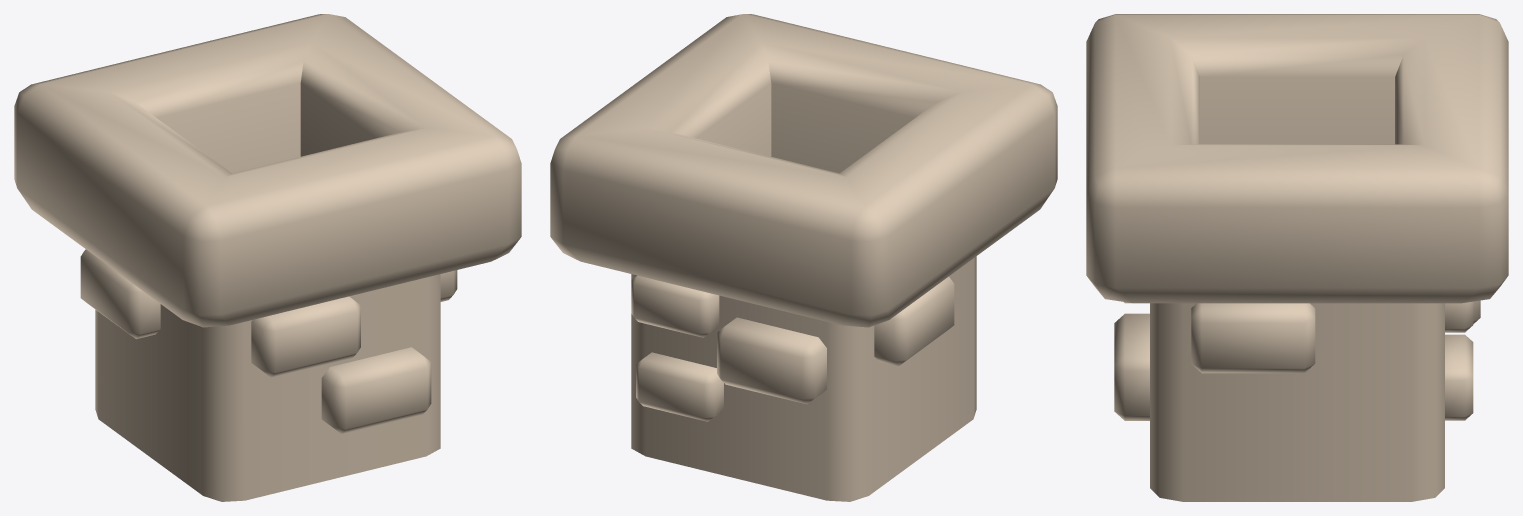
File: house_chimney.glb
3 renders of one model, left to right at view 1: azimuth 30°, elevation 25°; view 2: azimuth 150°, elevation 25°; view 3: azimuth 270°, elevation 25°, orthographic. The views are drawn at different scales.
Parts seen in each view (by area): view 1: house_chimney; view 2: house_chimney; view 3: house_chimney.
Part boxes in pixels (x1,y1,x2,y2): house_chimney: (14, 14, 521, 501); house_chimney: (550, 14, 1057, 501); house_chimney: (1086, 14, 1508, 501).
Bounding box in the file's own units: 1.43 × 1.3 × 1.43.
